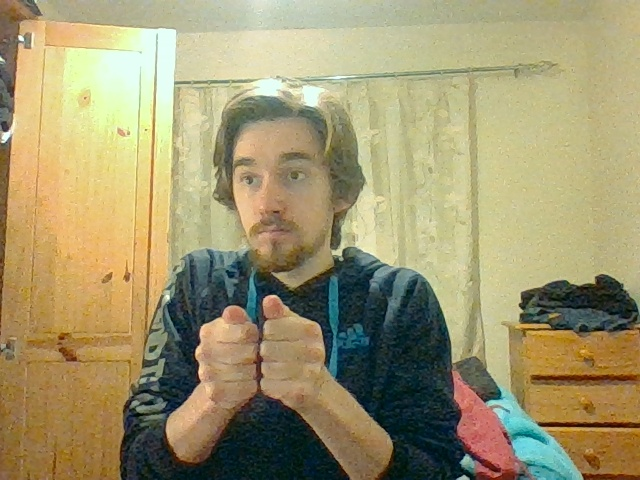brother: (194, 294, 324, 402)
